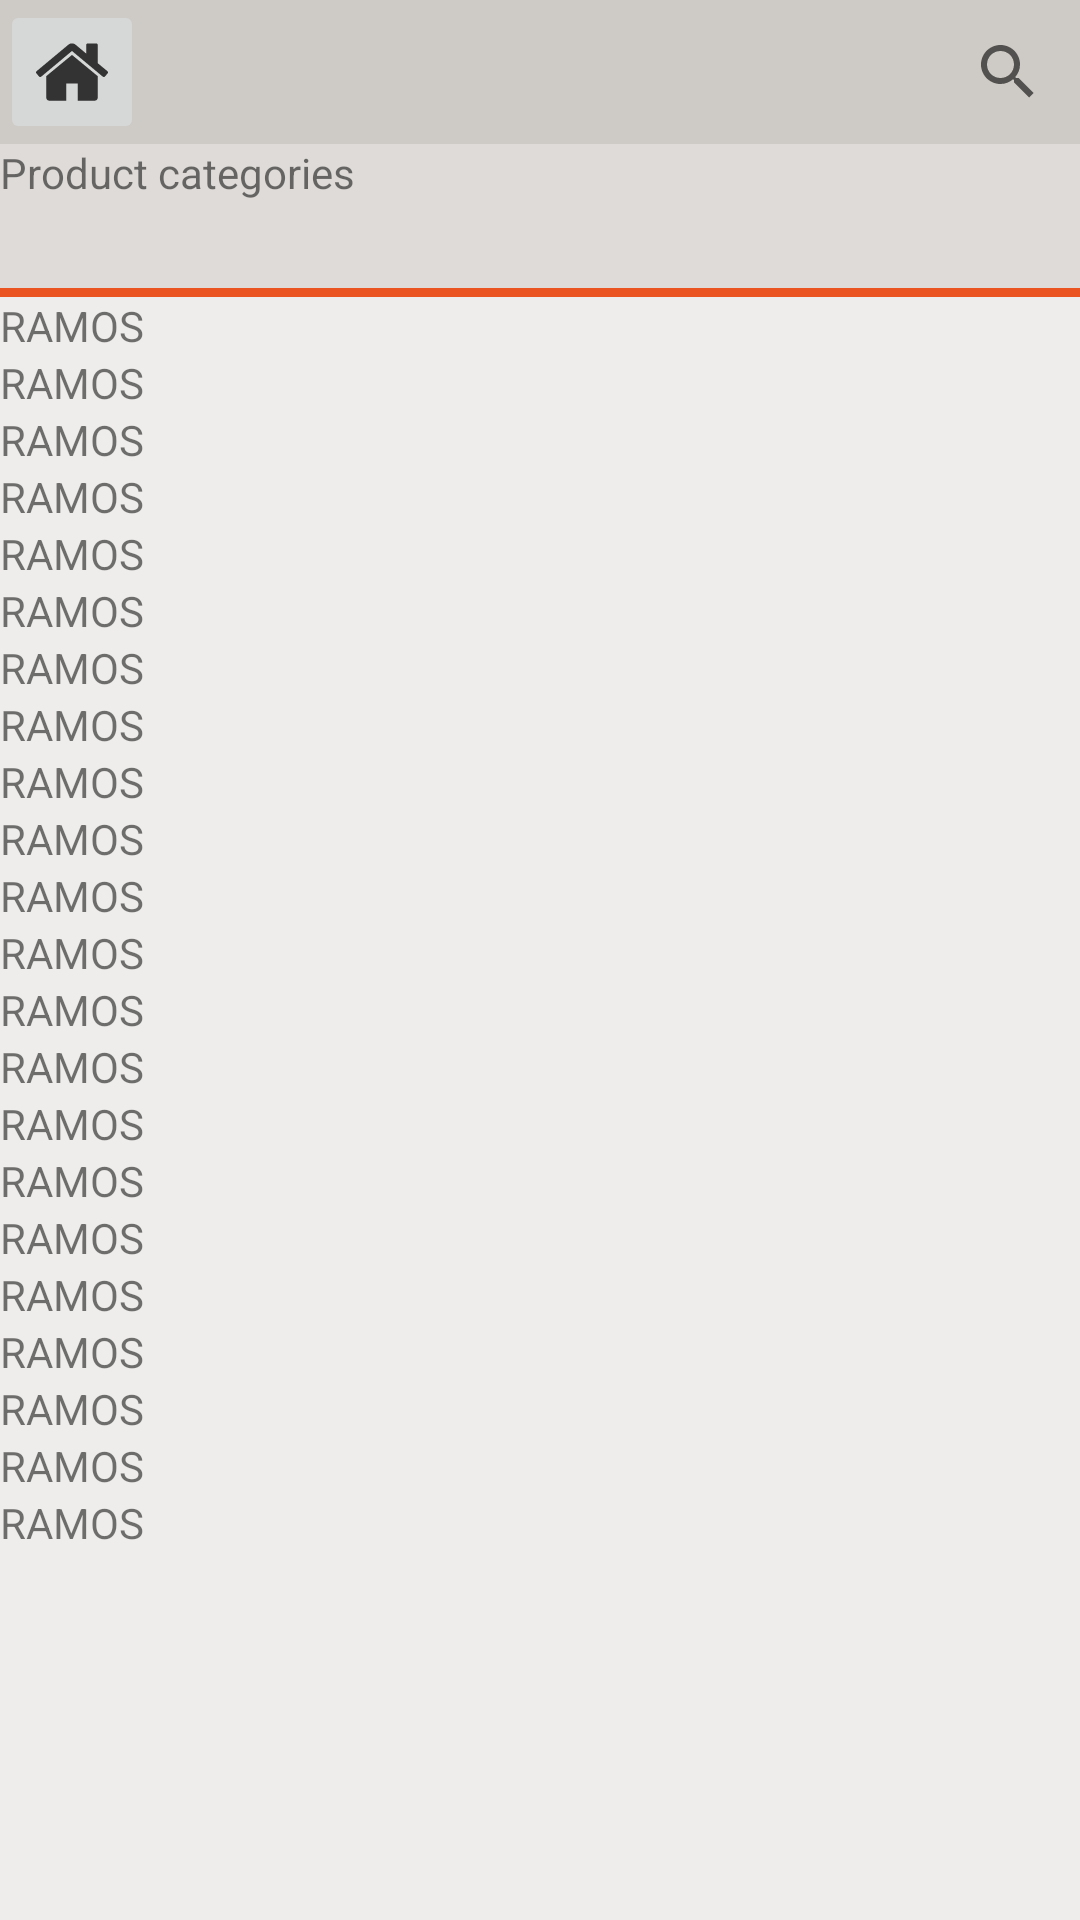

Named icons in this screenshot (1080×1920) and their bounding boxes, BBox(x1, y1, x2, y2):
home: BBox(36, 43, 108, 101)
